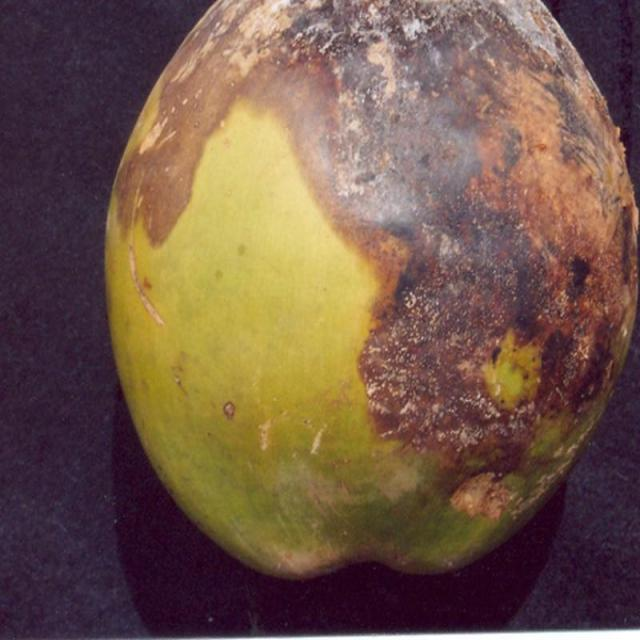damaged: (106, 0, 638, 576)
